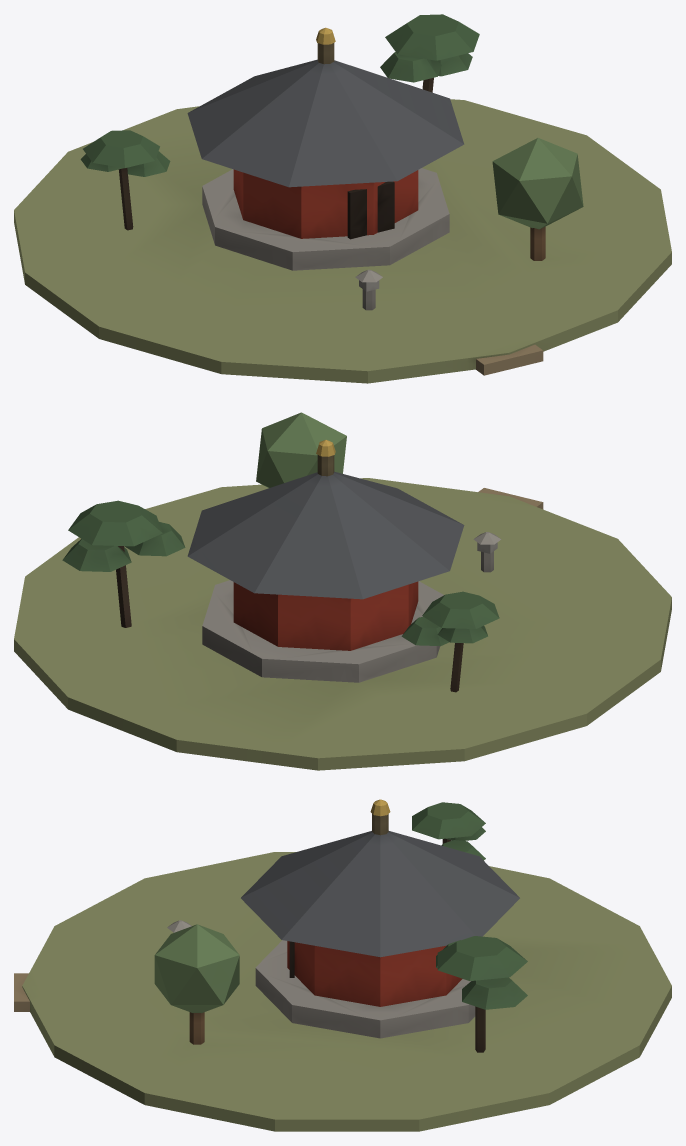
Rendered from benten-do.glb.
3 views of the same model, one above another, from view 1: azimuth 30°, elevation 25°; view 2: azimuth 150°, elevation 25°; view 3: azimuth 270°, elevation 25° (orthographic). The views are drawn at different scales.
Parts seen in each view (by area): view 1: p0_island, p2_roof, p1_hall; view 2: p0_island, p2_roof, p1_hall; view 3: p0_island, p2_roof, p1_hall.
Boxes of the visible parts, <box> form: p0_island: <box>14,99,671,383</box>; p2_roof: <box>80,14,583,310</box>; p1_hall: <box>233,169,418,239</box>; p0_island: <box>14,478,671,770</box>; p2_roof: <box>62,412,501,692</box>; p1_hall: <box>233,581,418,650</box>; p0_island: <box>14,852,671,1131</box>; p2_roof: <box>154,799,527,1052</box>; p1_hall: <box>287,941,462,1006</box>.
Bounding box in the file's own units: 38.02 × 13.16 × 39.5.
